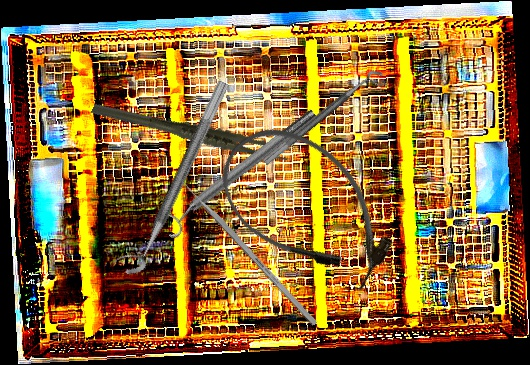Cannula: (198, 101, 417, 312)
Fixation Ring: (111, 72, 231, 280), (154, 102, 325, 241), (261, 65, 391, 176)
Pusher: (172, 170, 318, 327)
Tissue Forceps: (90, 67, 292, 195)
